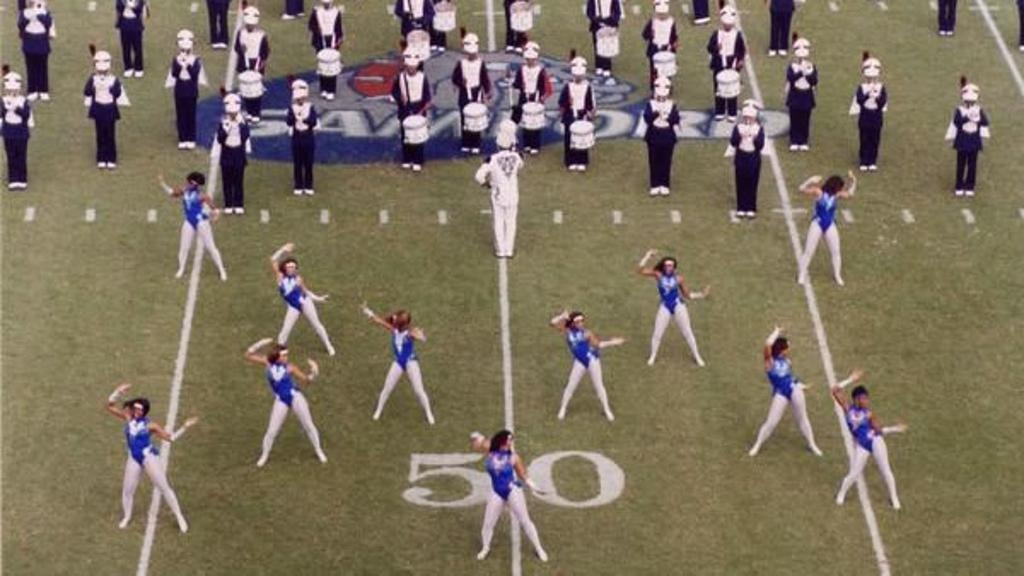human_face: (134, 404, 144, 420), (663, 258, 673, 272), (502, 432, 510, 448), (859, 392, 867, 406), (572, 317, 582, 328), (284, 264, 294, 274), (656, 90, 666, 100), (657, 8, 667, 18), (524, 57, 534, 67), (180, 44, 190, 54), (781, 342, 789, 354), (834, 182, 842, 194), (278, 349, 286, 361), (392, 314, 400, 326), (866, 74, 876, 82), (246, 22, 254, 32), (574, 72, 582, 80), (406, 64, 414, 72), (296, 97, 304, 105), (98, 66, 106, 74), (744, 114, 750, 124), (322, 0, 330, 7), (966, 96, 972, 104), (796, 54, 804, 60), (724, 24, 732, 30), (468, 50, 474, 58), (8, 86, 14, 94), (191, 180, 197, 186), (30, 1, 36, 7)
